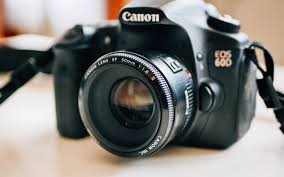camera: (53, 6, 254, 156)
